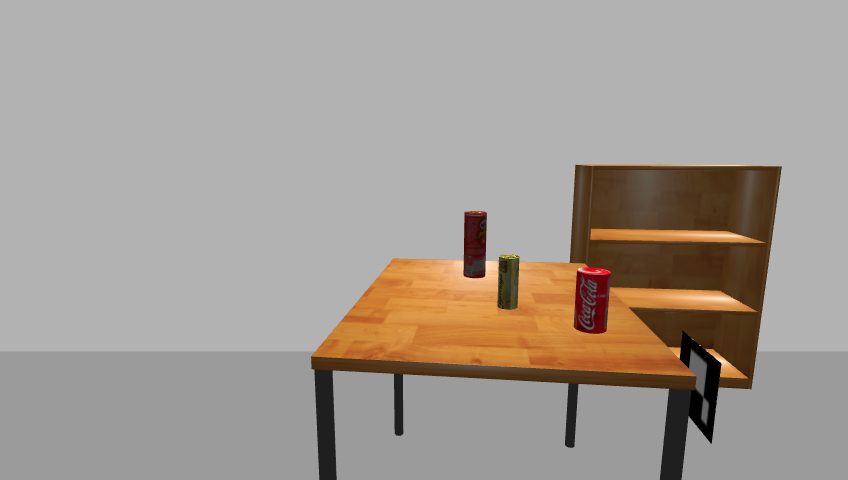aruco marker: (676, 332, 724, 443)
biscuits pack: (497, 254, 520, 311)
bookshelf: (566, 161, 790, 396)
coke can: (573, 266, 613, 334)
dinner table: (306, 257, 701, 480)
pringles can: (461, 211, 489, 280)
